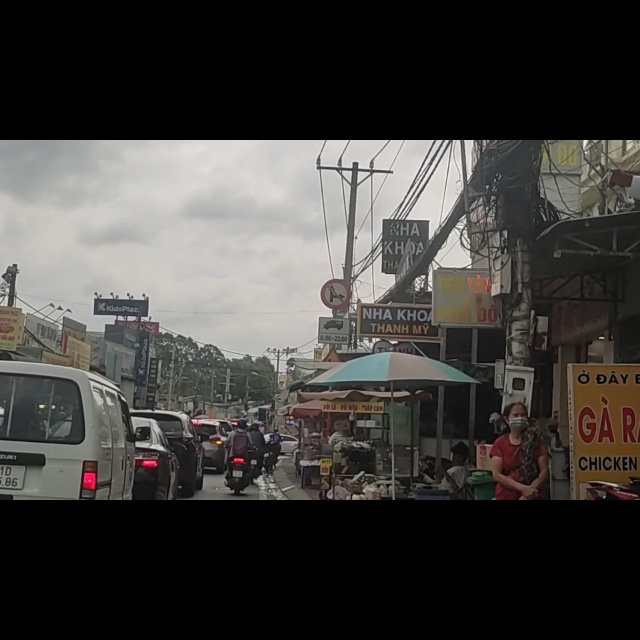bien_cam: (321, 247, 352, 300), (318, 316, 349, 358)
